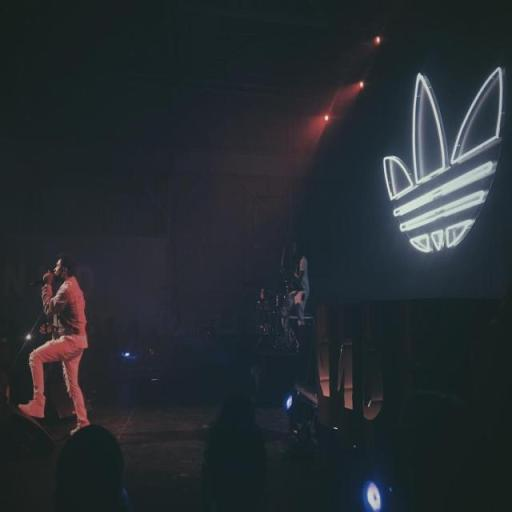Adidas: (379, 62, 507, 258)
